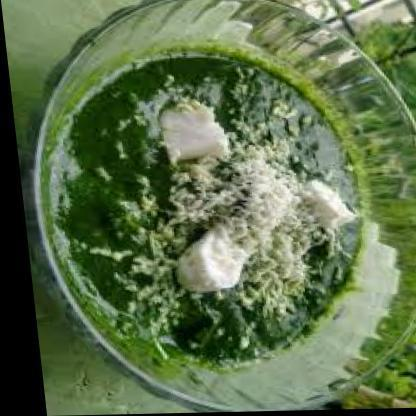palak_paneer: (32, 54, 371, 368)
